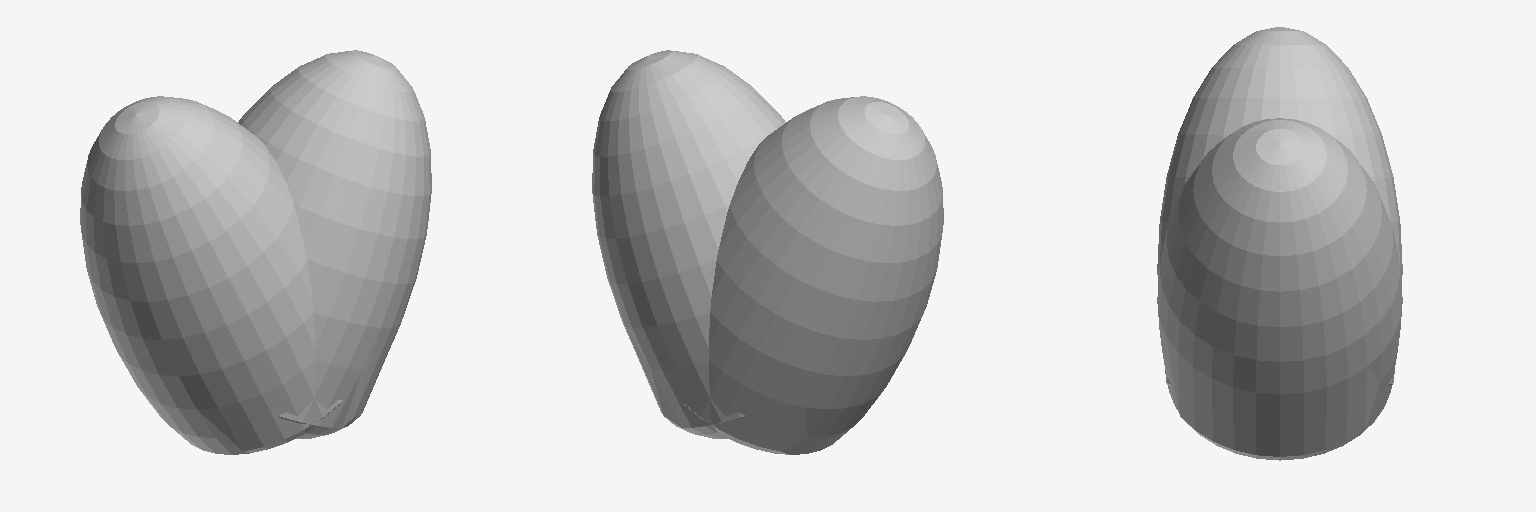
File: Leaves3.obj
3 renders of one model, left to right at view 1: azimuth 30°, elevation 25°; view 2: azimuth 150°, elevation 25°; view 3: azimuth 270°, elevation 25°, orthographic.
Visible parts, largest first — view 1: Sphere; view 2: Sphere; view 3: Sphere.
Boxes of the visible parts, x1,y1,x2,y2 form: Sphere: [80, 50, 431, 454]; Sphere: [592, 50, 943, 454]; Sphere: [1157, 27, 1402, 460].
Bounding box in the file's own units: 3.06 × 3.16 × 2.